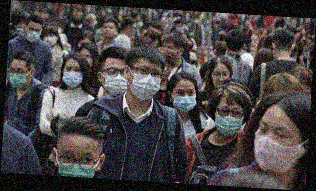with_mask: (252, 118, 305, 174), (55, 147, 97, 177), (127, 63, 161, 100), (213, 103, 245, 137), (101, 63, 128, 95), (171, 87, 198, 113), (61, 64, 84, 89), (8, 64, 29, 89), (25, 24, 42, 42), (79, 52, 94, 67), (42, 32, 57, 46), (174, 23, 185, 34)
without_mask: (209, 69, 230, 88), (161, 60, 173, 82), (101, 22, 116, 38), (127, 24, 137, 38), (73, 8, 83, 18)
